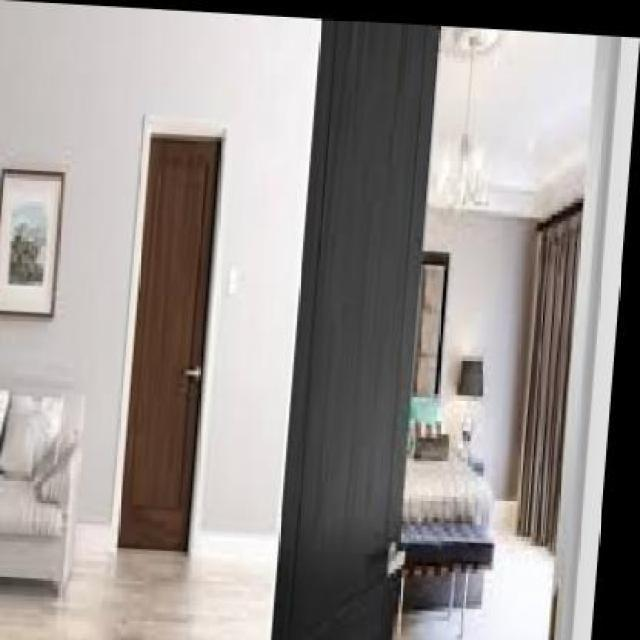door: (265, 7, 438, 640), (117, 130, 221, 563)
